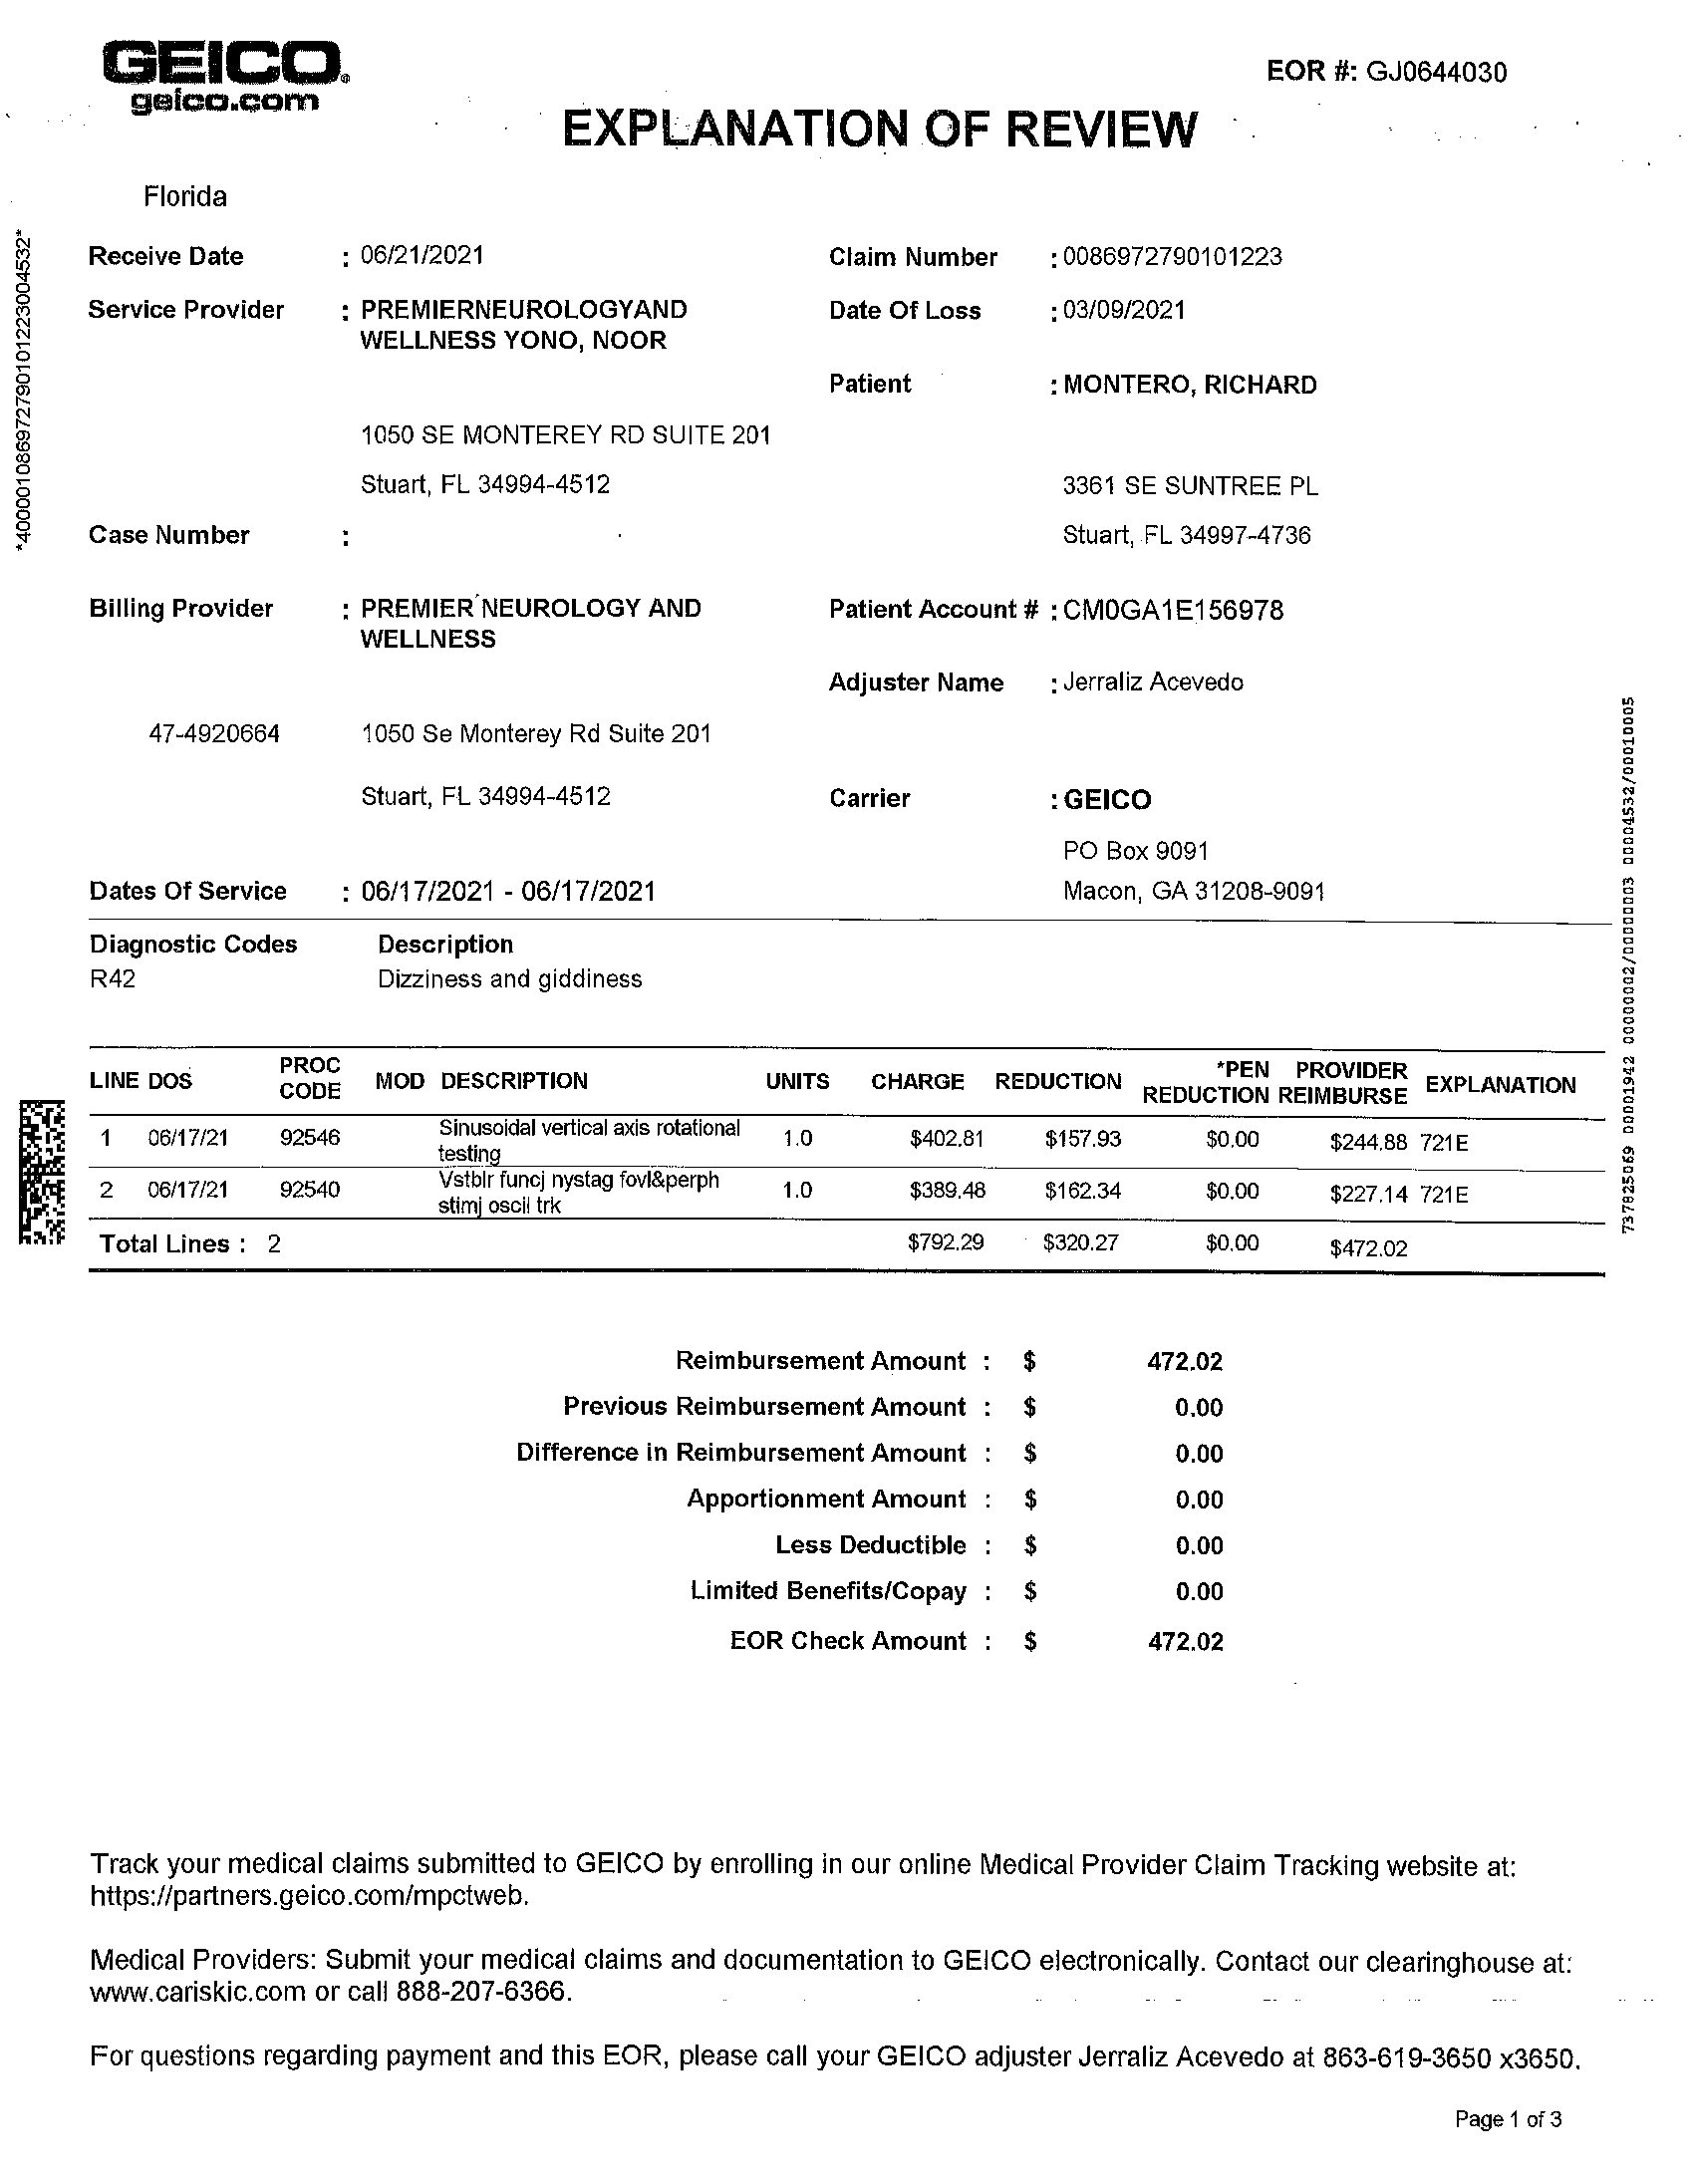data: (80, 860, 759, 1010), (74, 230, 699, 379), (67, 564, 715, 672), (803, 574, 1309, 711), (809, 223, 1307, 342)
table: (82, 1028, 1612, 1298)
